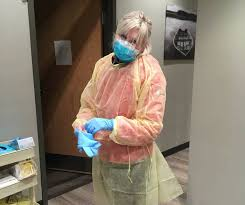masked: (109, 12, 152, 64)
